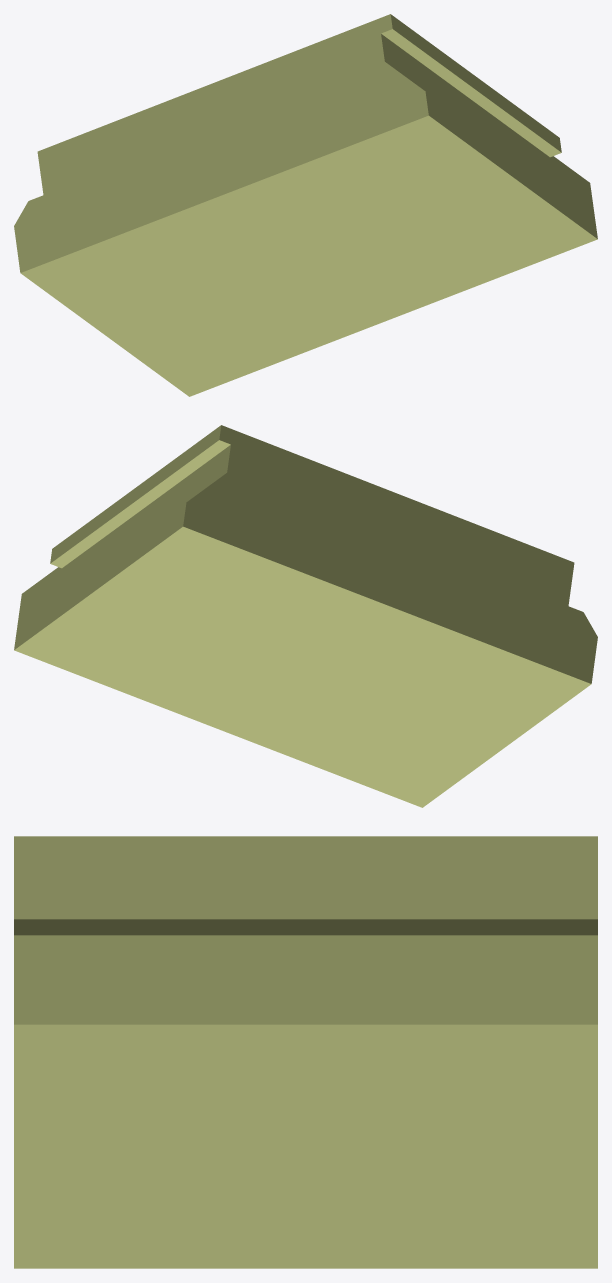
The picture shows the model from 3 angles, top to bottom: view 1: azimuth 30°, elevation 25°; view 2: azimuth 150°, elevation 25°; view 3: azimuth 270°, elevation 25°; orthographic projection. The views are drawn at different scales.
Parts seen in each view (by area): view 1: 0_1_3_2_1_1_1_2_3_0; view 2: 0_1_3_2_1_1_1_2_3_0; view 3: 0_1_3_2_1_1_1_2_3_0.
Part boxes in pixels (x1=…): 0_1_3_2_1_1_1_2_3_0: x1=14, y1=14, x2=597, y2=396; 0_1_3_2_1_1_1_2_3_0: x1=14, y1=425, x2=597, y2=807; 0_1_3_2_1_1_1_2_3_0: x1=14, y1=836, x2=597, y2=1268.
Size of the model in its own units: 12.74 by 4.96 by 9.
